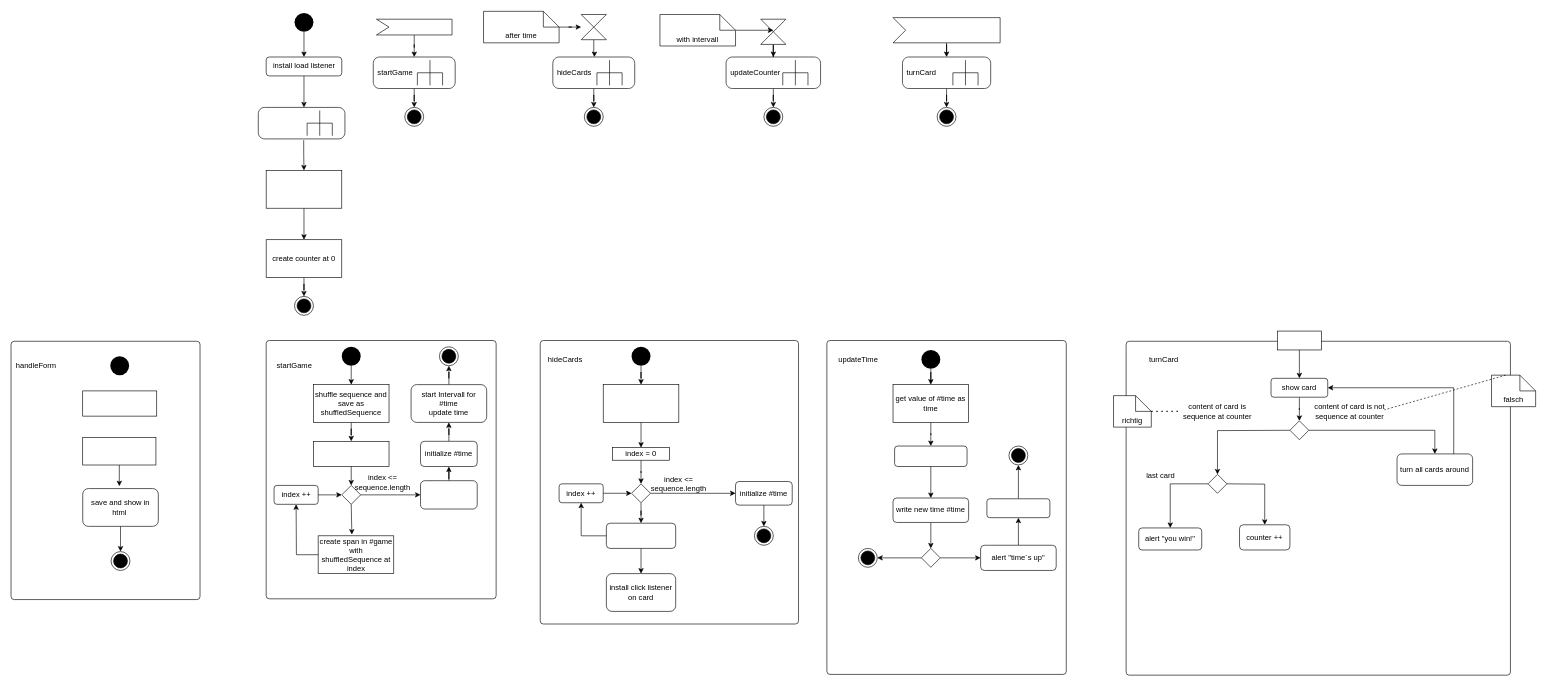
This 1547x686 diagram has some shape labels left out. The shapes that lost their labels are listed below. From the top down, each one's box as (x1, y1, x2, y2) in pixels, then its label:
(376, 19, 452, 35): load
(892, 17, 1000, 43): click on card
(258, 107, 345, 139): handleData
(266, 170, 342, 208): split typedWord and save all letters as sequence (array)
(1277, 330, 1321, 350): _card
(82, 390, 157, 416): let FormData get all values of form elements
(603, 384, 679, 422): use querySelectorAll to get all spans in #game and save as cards Array
(82, 437, 156, 465): entry in FormData
(313, 441, 389, 467): create index at 0
(894, 445, 967, 467): reduce time
(420, 480, 477, 509): start Time for hideCard
(986, 498, 1050, 518): reload site
(606, 523, 676, 548): hideCard at index
